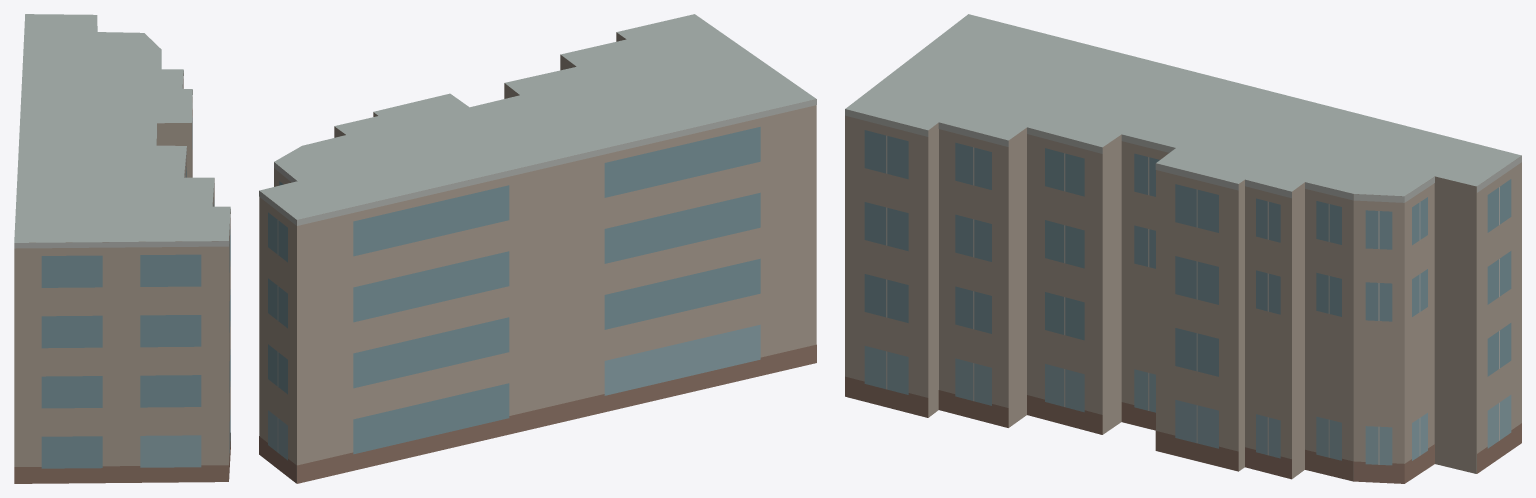
File: survey-upis-32979995.glb
The picture shows the model from 3 angles, left to right: view 1: azimuth 30°, elevation 25°; view 2: azimuth 150°, elevation 25°; view 3: azimuth 270°, elevation 25°; orthographic projection. The views are drawn at different scales.
Visible parts, largest first — view 1: survey-upis-32979995.tmp; view 2: survey-upis-32979995.tmp; view 3: survey-upis-32979995.tmp.
Part boxes in pixels (box(x1,y1,x2,y2)): survey-upis-32979995.tmp: box(14, 14, 230, 483); survey-upis-32979995.tmp: box(259, 14, 816, 483); survey-upis-32979995.tmp: box(845, 14, 1521, 483).
Bounding box in the file's own units: 14.35 × 10.55 × 22.51.
